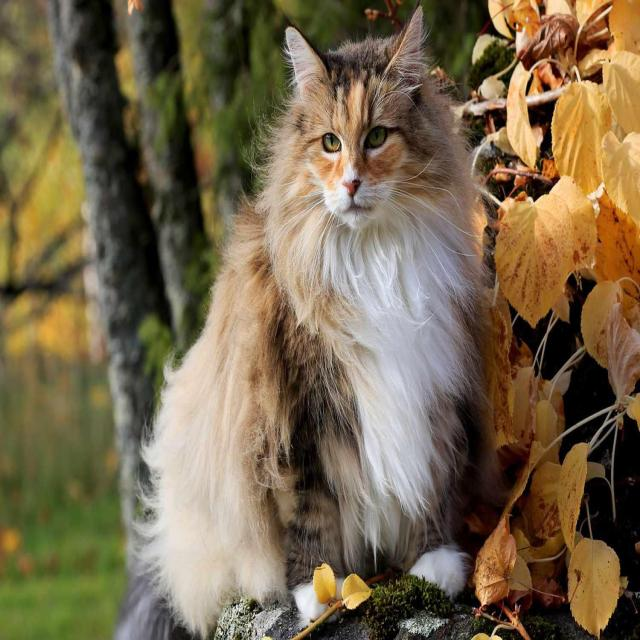cat: (167, 58, 469, 592)
